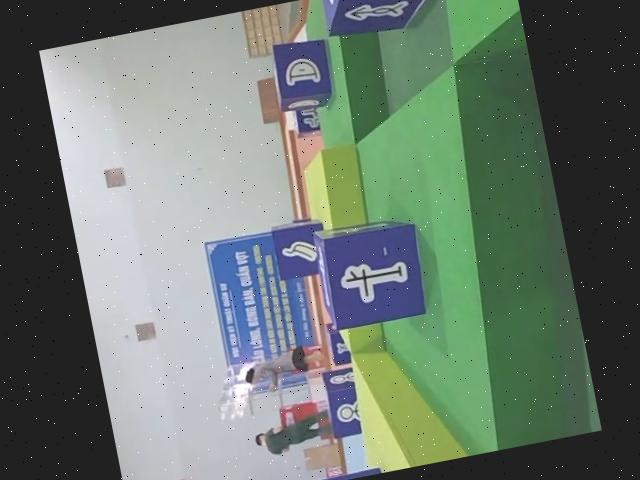R2 Real Blue: (310, 211, 433, 332), (267, 33, 339, 113), (320, 0, 451, 42), (269, 215, 334, 280), (320, 365, 366, 438)
